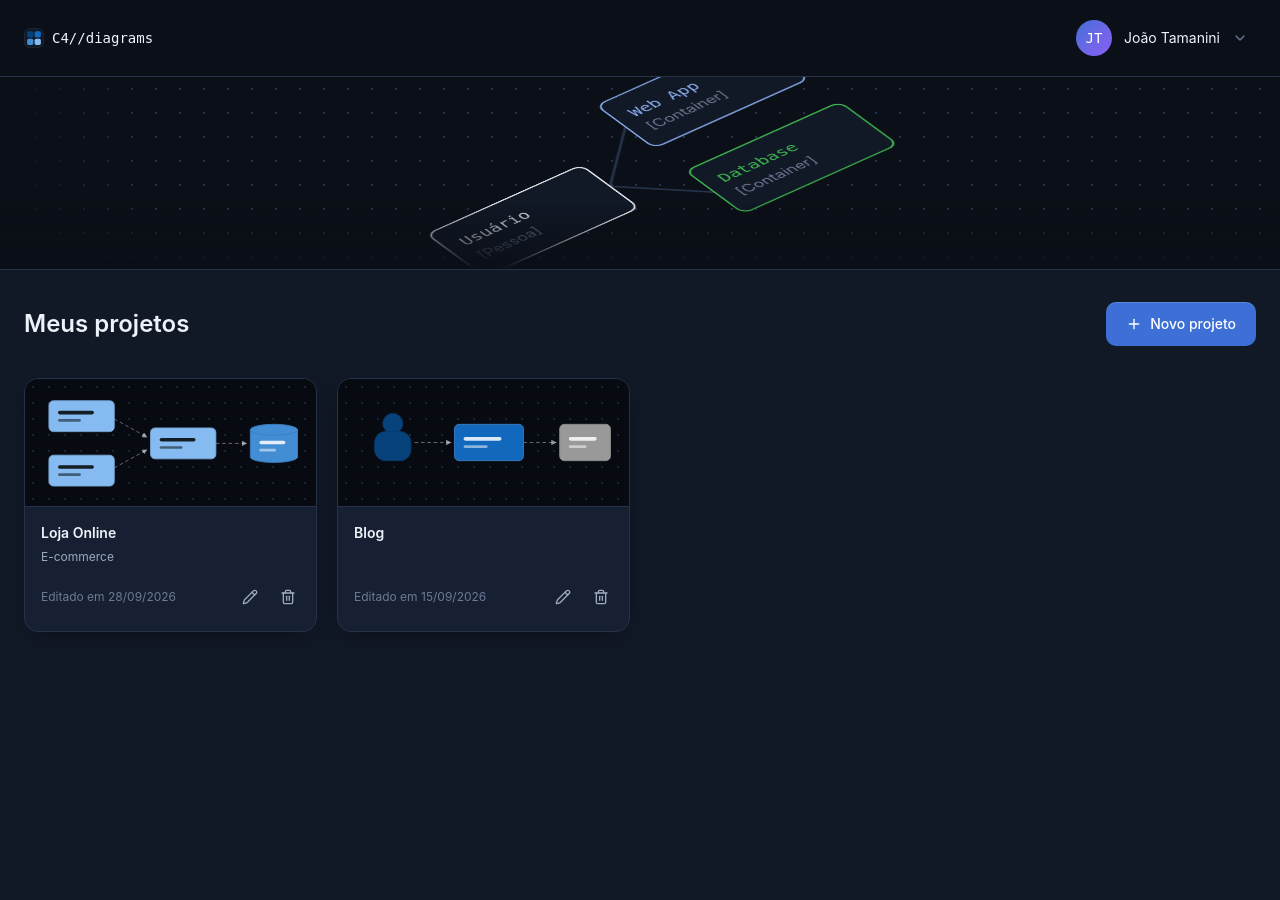
Test: Dashboard › edição (RF05) › deve abrir o modal preenchido, salvar via PATCH e levar o projeto ao topo
Expected: the link "Blog" is shown, [354,524,384,541]
Click the button named "Editar projeto Blog". click: (563, 596)
box: [545,578,581,614]
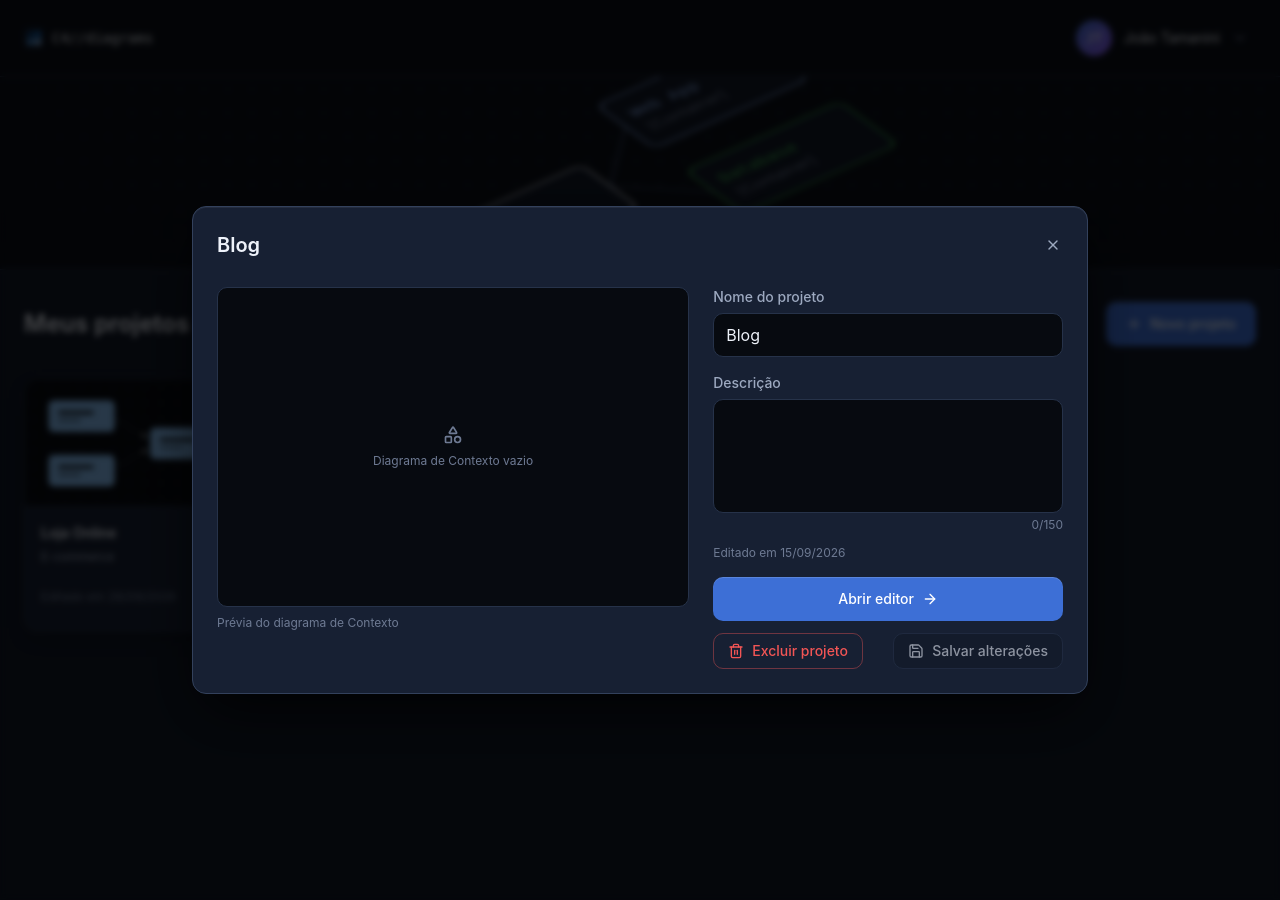
Result: the field labelled "Nome do projeto" holds "Blog"
Replace the text in the field labelled "Nome do projeto" with "Blog Técnico". click: (888, 335)
box: [713,313,1063,357]
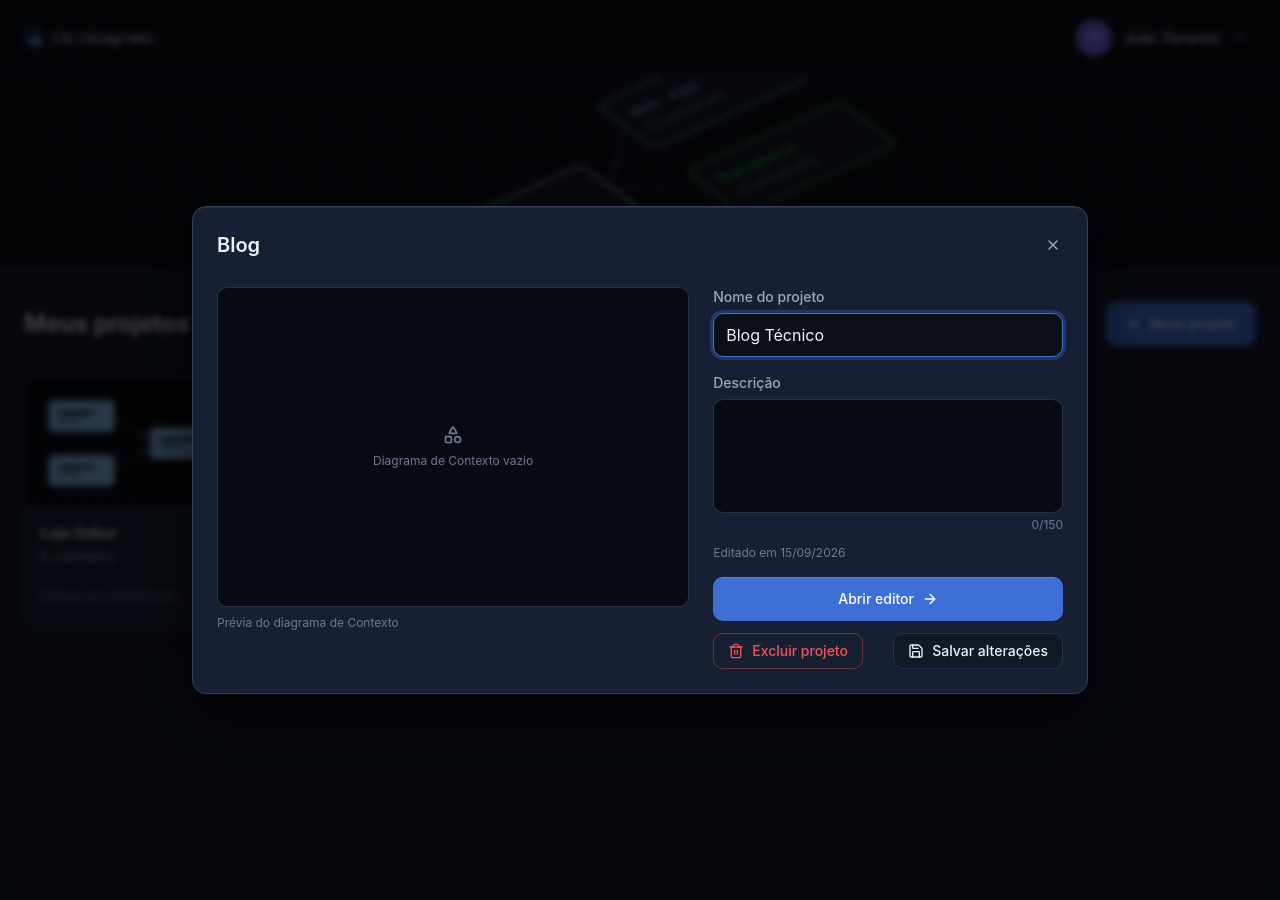
Click the button "Salvar alterações". click: (978, 651)
box: [893,633,1063,669]
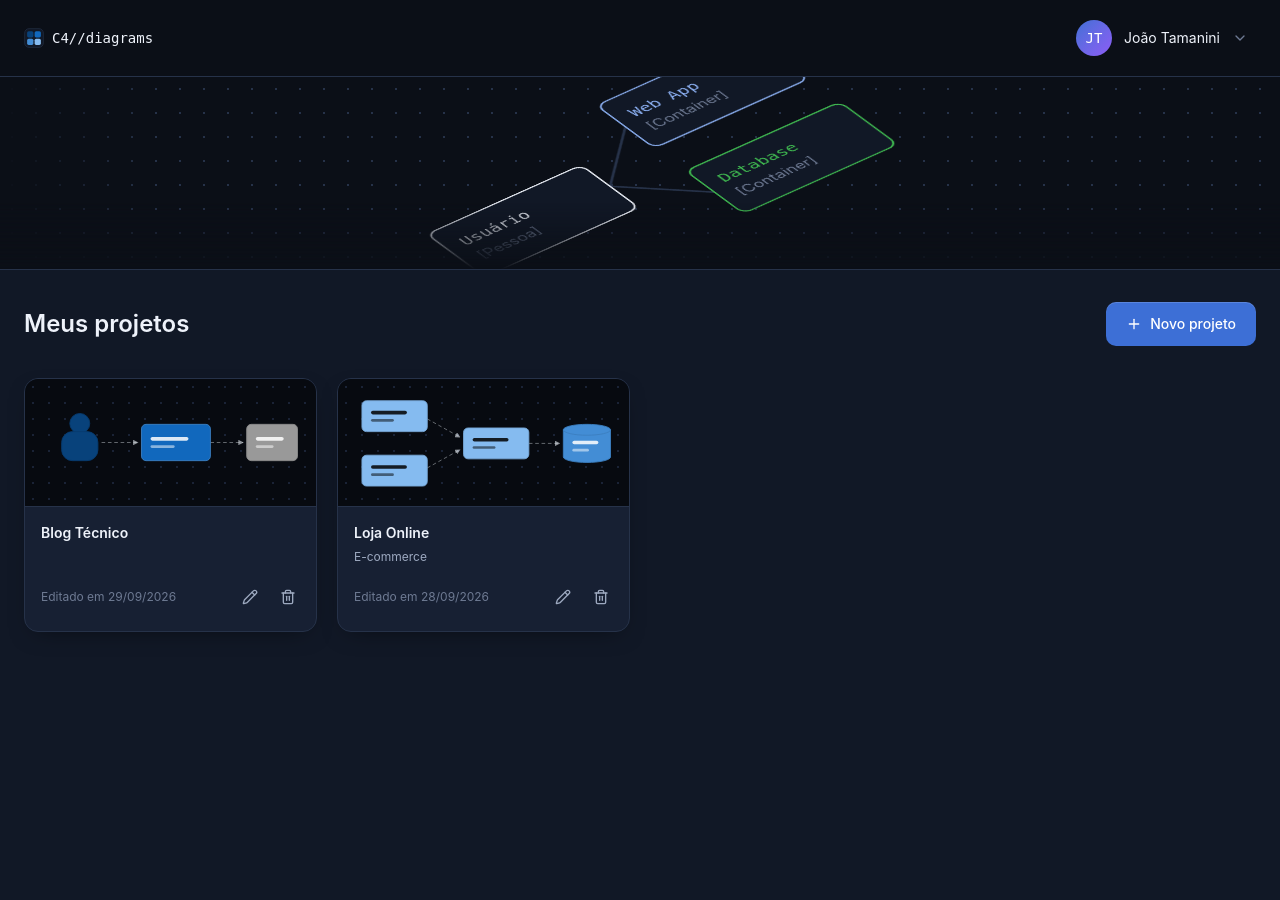
Result: the dialog is gone
